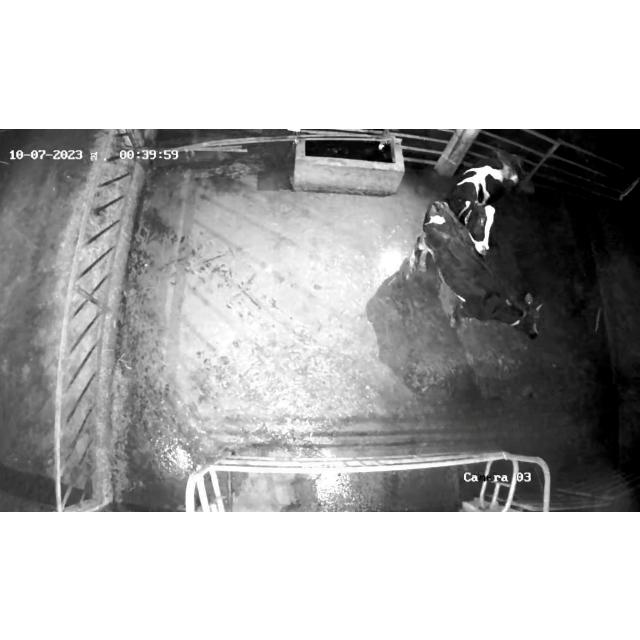propping: (442, 186, 500, 268)
